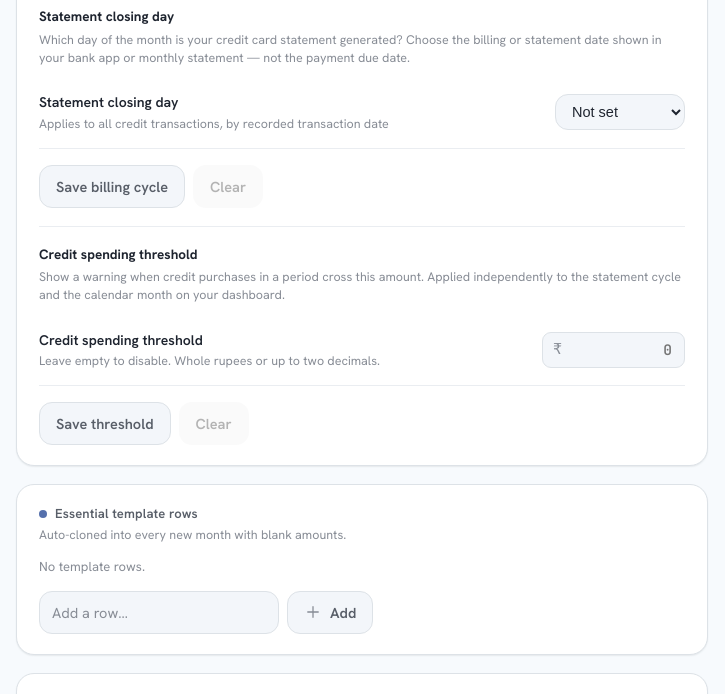
Test: Settings — credit spending threshold › disables Save and shows an error for more than two decimals
The width and height of the screenshot is (725, 694).
(page scrolled)
In the field named "Credit spending threshold amount": point(619, 350) [564,339,674,360], type "100.501"
(page scrolled)
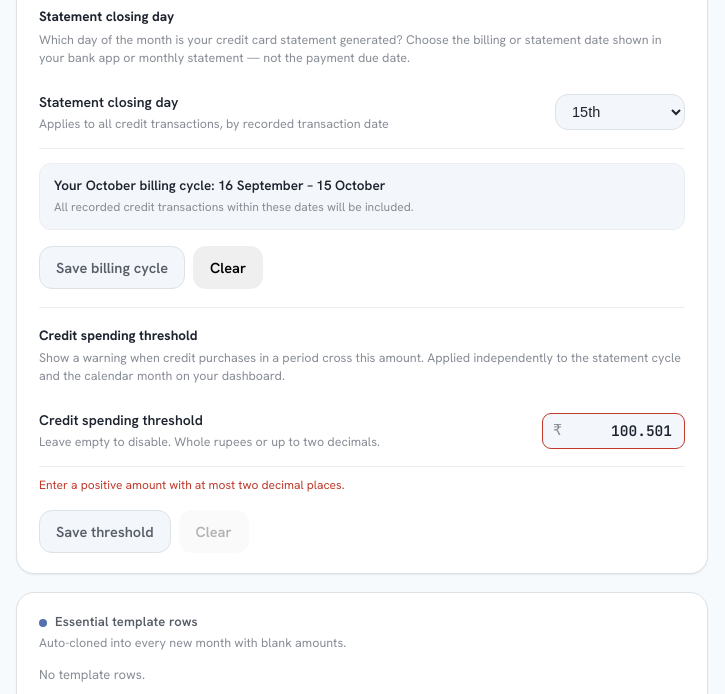
Expected: the button "Save threshold" is disabled, [39,510,170,553]
Now the text "Enter a positive amount with at most two decimal places." is shown, box [39,477,345,493]
